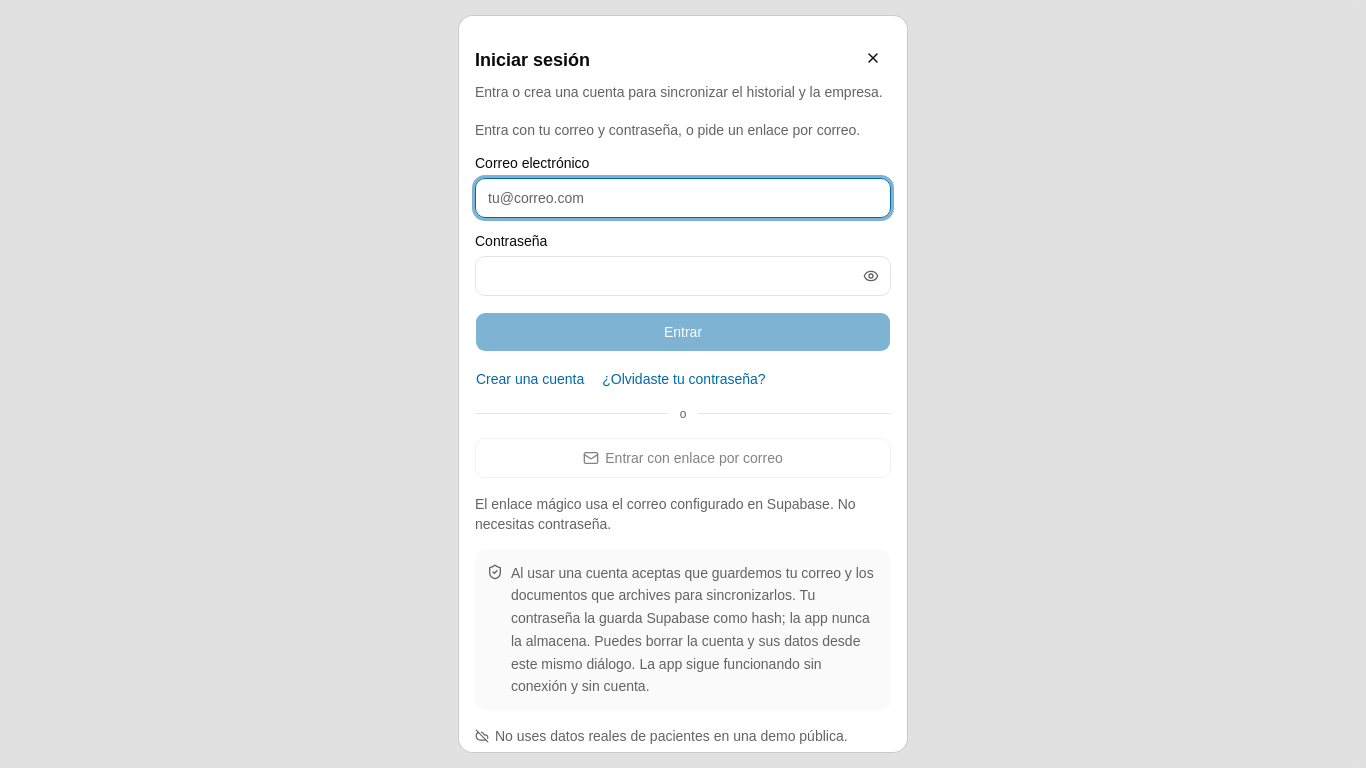
Test: AccountDialog › envía el enlace mágico
This screenshot has width=1366, height=768.
In the field labelled "Correo electrónico": (683, 198) [475, 178, 891, 218], type "ana@example.com"
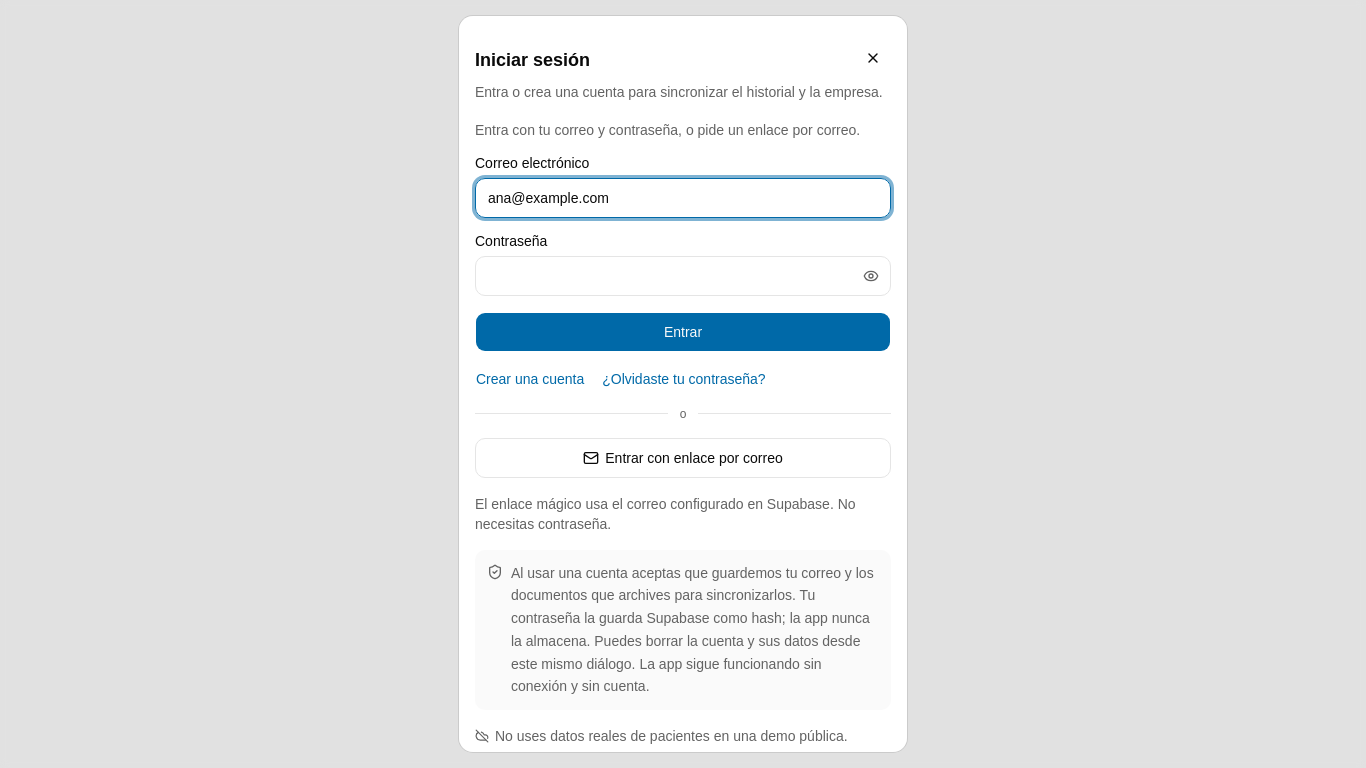
Click the button "Entrar con enlace por correo": click(683, 458) [475, 438, 891, 478]
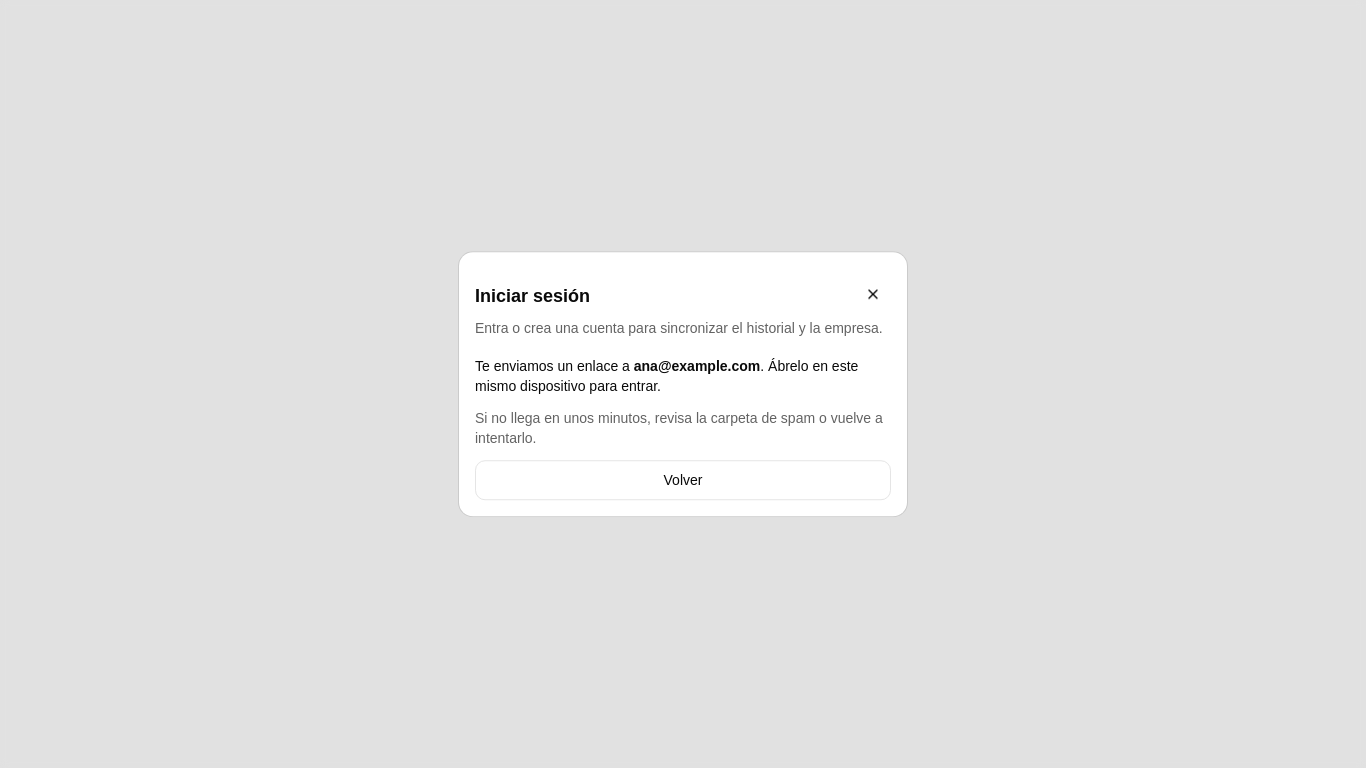
Expected: the text "Te enviamos un enlace" is shown, [475, 358, 634, 374]
